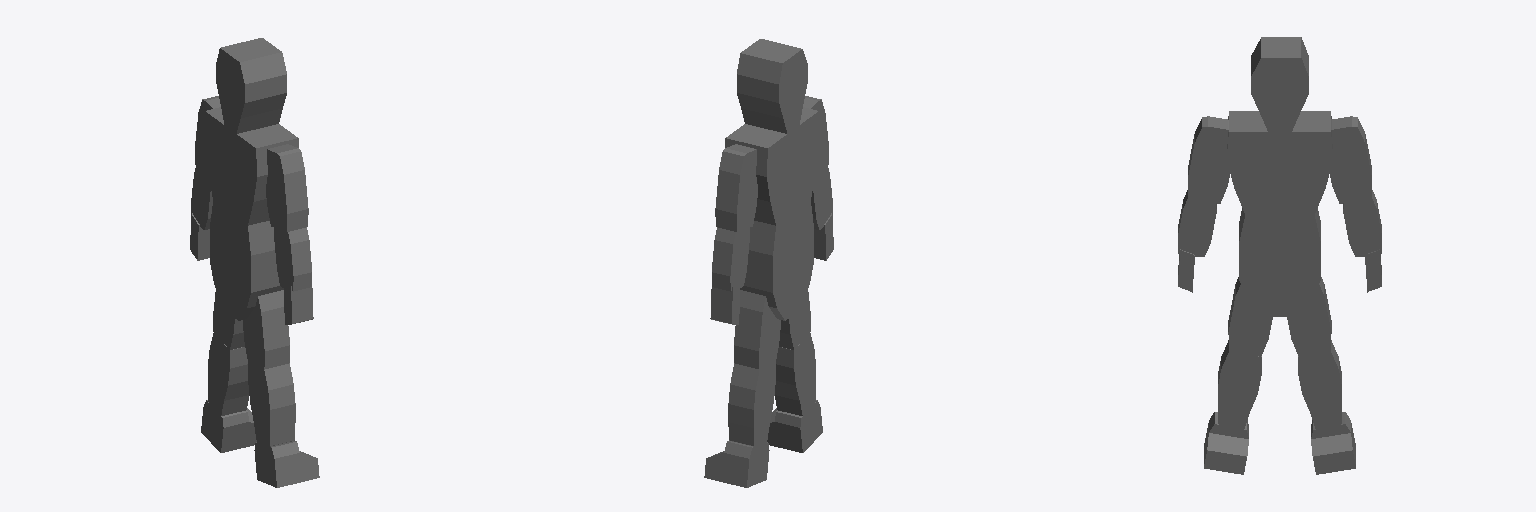
3 views of the same model, side by side, from view 1: azimuth 30°, elevation 25°; view 2: azimuth 150°, elevation 25°; view 3: azimuth 270°, elevation 25° (orthographic).
Parts seen in each view (by area): view 1: Cube_Cube.001, Cube.014_Cube.015, Cube.001_Cube.002, Cube.005_Cube.017, Cube.011_Cube.019, Cube.003_Cube.016, Cube.004_Cube.005, Cube.007_Cube.018, Cube.012_Cube.020, Cube.006_Cube.007, Cube.002_Cube.003, Cube.009_Cube.010 (+3 smaller); view 2: Cube_Cube.001, Cube.014_Cube.015, Cube.001_Cube.002, Cube.004_Cube.005, Cube.008_Cube.009, Cube.002_Cube.003, Cube.005_Cube.017, Cube.006_Cube.007, Cube.009_Cube.010, Cube.007_Cube.018, Cube.003_Cube.016, Cube.012_Cube.020 (+3 smaller); view 3: Cube_Cube.001, Cube.001_Cube.002, Cube.014_Cube.015, Cube.008_Cube.009, Cube.011_Cube.019, Cube.005_Cube.017, Cube.004_Cube.005, Cube.002_Cube.003, Cube.003_Cube.016, Cube.006_Cube.007, Cube.007_Cube.018, Cube.009_Cube.010 (+3 smaller).
Boxes of the visible parts, box(x1,y1,x2,y2) form: Cube_Cube.001: box(204, 107, 298, 255); Cube.014_Cube.015: box(216, 38, 286, 133); Cube.001_Cube.002: box(210, 226, 283, 320); Cube.005_Cube.017: box(248, 363, 295, 446); Cube.011_Cube.019: box(266, 144, 308, 231); Cube.003_Cube.016: box(243, 290, 289, 369); Cube.004_Cube.005: box(208, 333, 248, 415); Cube.007_Cube.018: box(254, 441, 319, 487); Cube.012_Cube.020: box(274, 227, 311, 291); Cube.006_Cube.007: box(201, 400, 256, 452); Cube.002_Cube.003: box(213, 291, 244, 349); Cube.009_Cube.010: box(191, 167, 212, 229); Cube_Cube.001: box(725, 107, 819, 255); Cube.014_Cube.015: box(737, 39, 807, 133); Cube.001_Cube.002: box(740, 226, 813, 320); Cube.004_Cube.005: box(728, 363, 775, 446); Cube.008_Cube.009: box(715, 144, 757, 231); Cube.002_Cube.003: box(734, 290, 780, 369); Cube.005_Cube.017: box(775, 333, 815, 415); Cube.006_Cube.007: box(704, 441, 769, 487); Cube.009_Cube.010: box(712, 227, 749, 291); Cube.007_Cube.018: box(767, 400, 822, 452); Cube.003_Cube.016: box(779, 291, 810, 349); Cube.012_Cube.020: box(811, 167, 832, 229); Cube_Cube.001: box(1227, 111, 1332, 242); Cube.001_Cube.002: box(1239, 243, 1320, 316); Cube.014_Cube.015: box(1251, 37, 1308, 131); Cube.008_Cube.009: box(1330, 116, 1371, 203); Cube.011_Cube.019: box(1188, 116, 1229, 203); Cube.005_Cube.017: box(1218, 340, 1261, 428); Cube.004_Cube.005: box(1298, 340, 1341, 429); Cube.002_Cube.003: box(1287, 277, 1331, 356); Cube.003_Cube.016: box(1228, 277, 1272, 356); Cube.006_Cube.007: box(1311, 412, 1355, 474); Cube.007_Cube.018: box(1204, 412, 1248, 474); Cube.009_Cube.010: box(1343, 190, 1381, 256).
Bounding box in the file's own units: 1.44 × 11.15 × 5.01.
Materials: 1 (1 with a texture image).